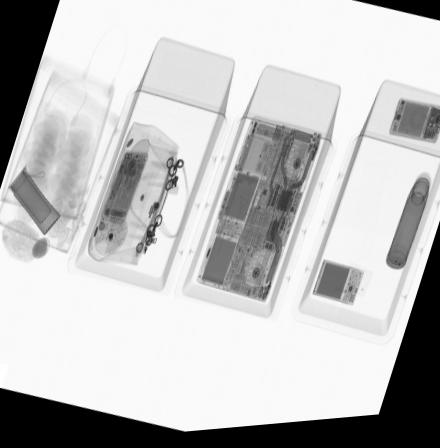Powerbank: (313, 265, 364, 313)
